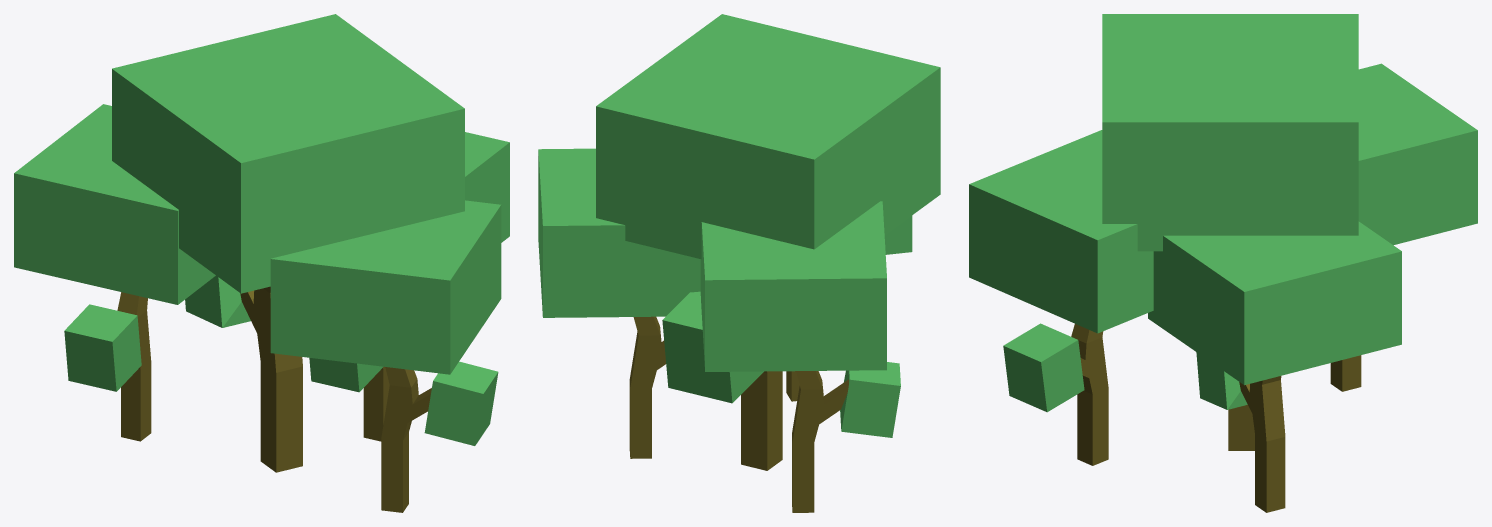
File: trees.fbx
3 renders of one model, left to right at view 1: azimuth 30°, elevation 25°; view 2: azimuth 150°, elevation 25°; view 3: azimuth 270°, elevation 25°, orthographic. The views are drawn at different scales.
Visible parts, largest first — view 1: Cube; view 2: Cube; view 3: Cube.
Boxes of the visible parts, x1,y1,x2,y2 form: Cube: [14, 14, 509, 512]; Cube: [538, 14, 940, 512]; Cube: [969, 14, 1477, 512].
Bounding box in the file's own units: 894 × 778 × 932.
